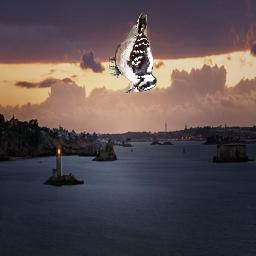Woodpecker: (109, 13, 157, 94)
